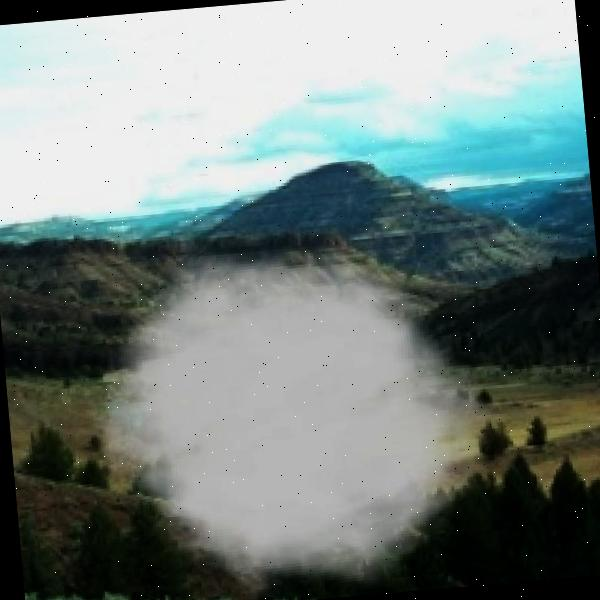smoke: (63, 215, 516, 600)
